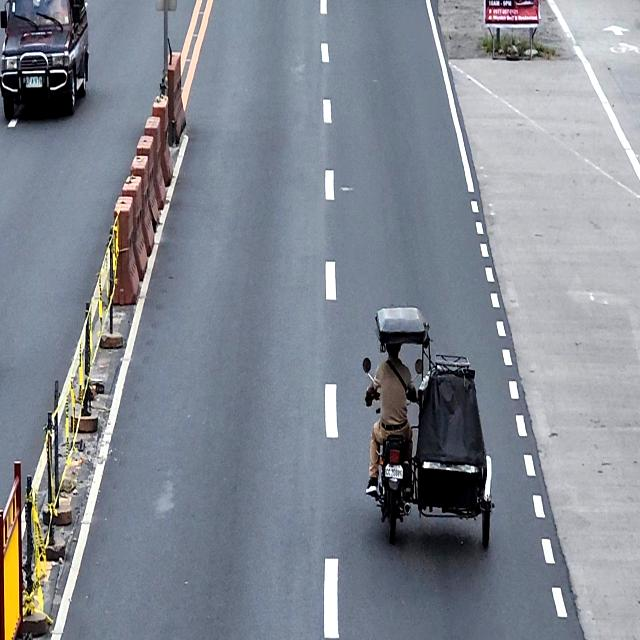Car: (0, 0, 90, 118)
License-Plate: (384, 464, 404, 479), (25, 75, 43, 88)
Tricycle: (362, 304, 494, 549)
